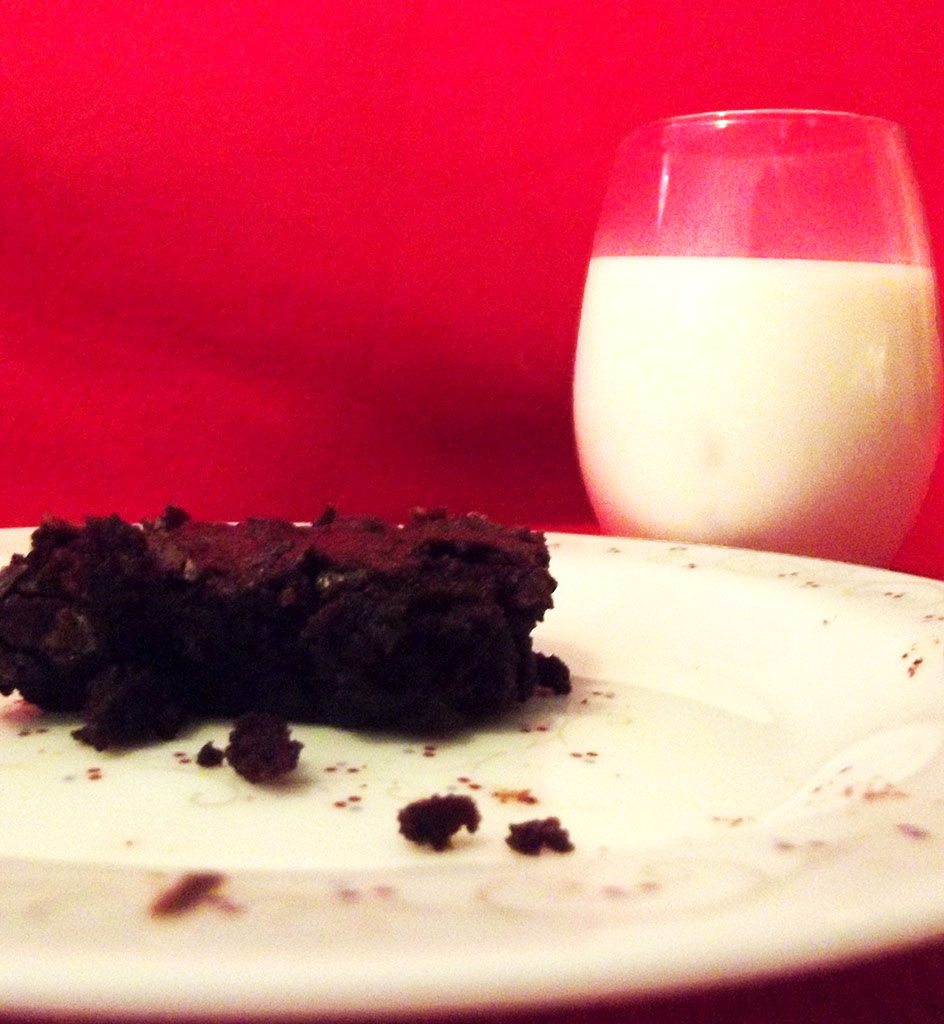glass of milk: (593, 125, 926, 526)
